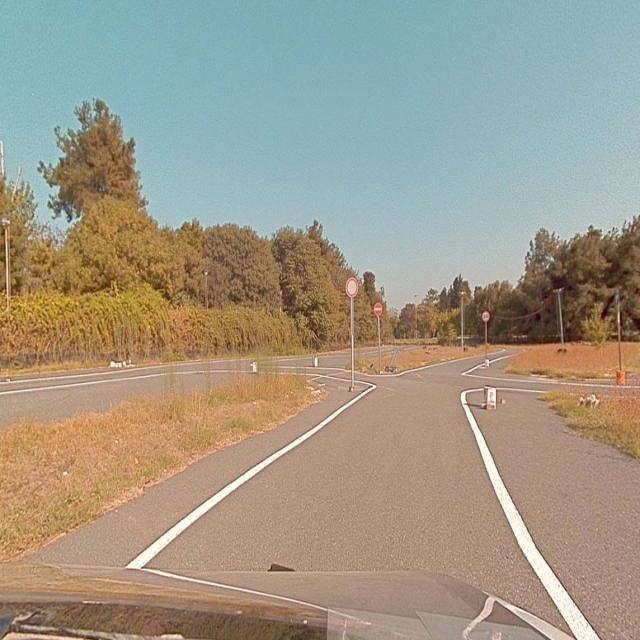girisyok: (373, 303, 382, 316)
